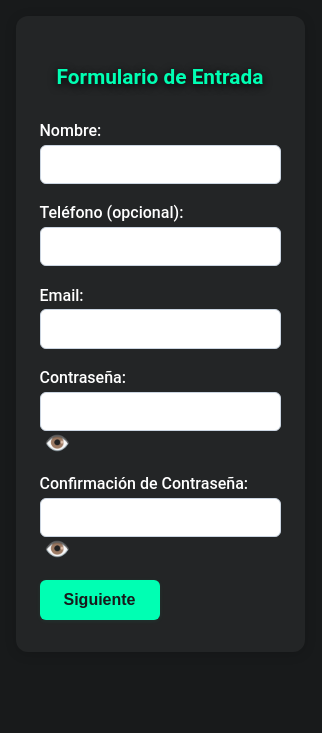
en el FormularioEntrada › muestra error si las contraseñas no coinciden
Type "abcdef" into the password field labelled "Contraseña:" at (160, 411), box [40,392,280,431]
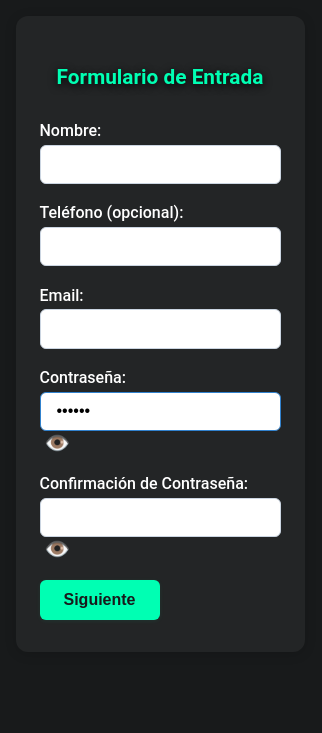
Type "123456" into the password field labelled "Confirmación de Contraseña:" at (160, 517), box [40,498,280,537]
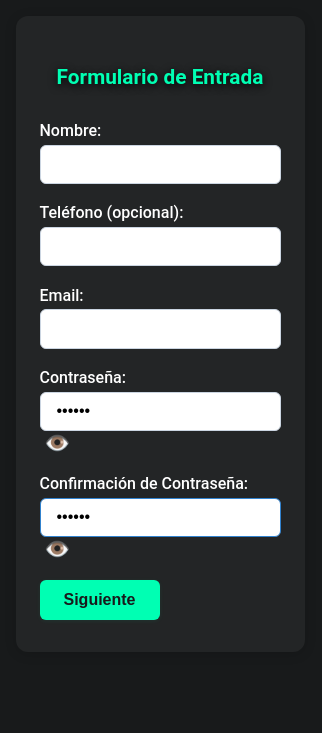
Click the button "Siguiente" at (100, 600), box [40,580,160,620]
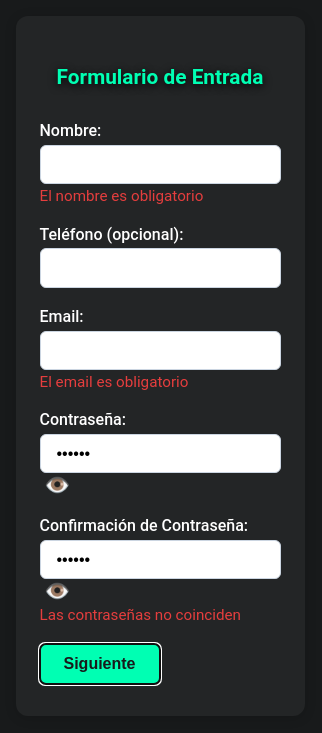
Expected: the text "Las contraseñas no coinciden" is shown, [40,606,241,624]
